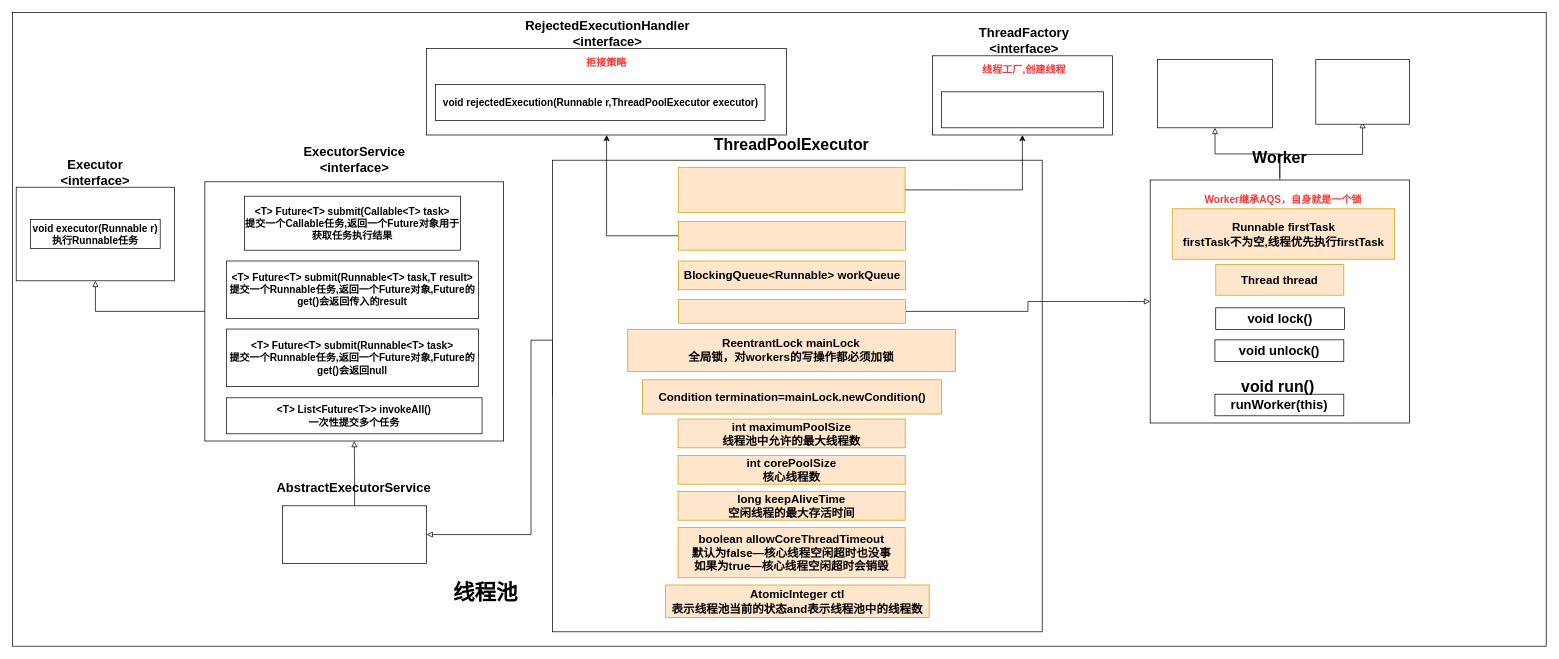
The diagram is 1559 pixels wide and 659 high, and some of its shapes have lost their labels. Each missing label, with the box of its shape:
AQS: (1315, 59, 1409, 124)
HashSet<Worker> workers 将线程封装为Worker，存储存活的线程: (678, 299, 906, 323)
RejectedExecutionHandler handler 拒绝策略: (678, 221, 906, 250)
Runnable: (1157, 59, 1273, 128)
Thread newThread(Runnable r): (941, 91, 1103, 128)
ThreadFactory threadFactory 所以线程都通过threadFactory创建: (678, 167, 905, 212)
